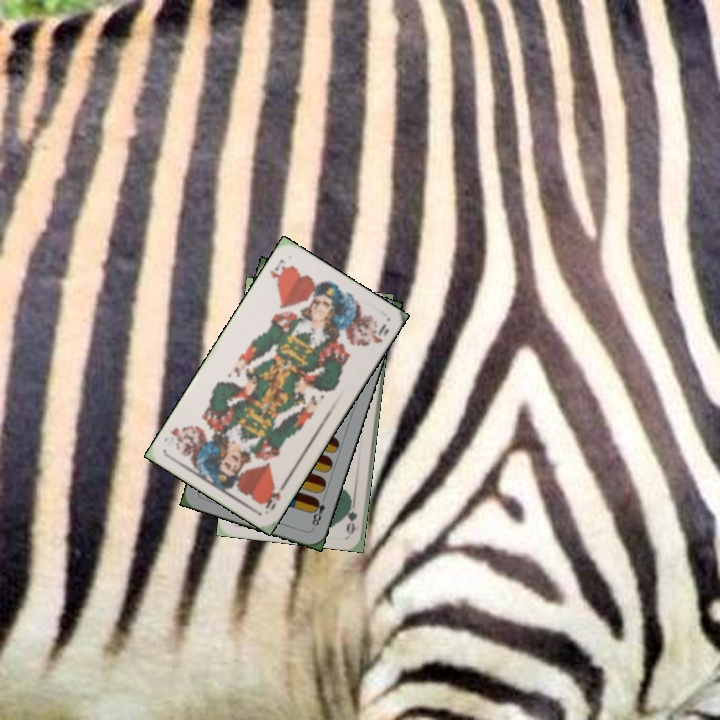E8: (308, 492, 328, 531)
GO: (342, 494, 360, 535)
HO: (261, 477, 290, 513), (266, 255, 291, 288)
